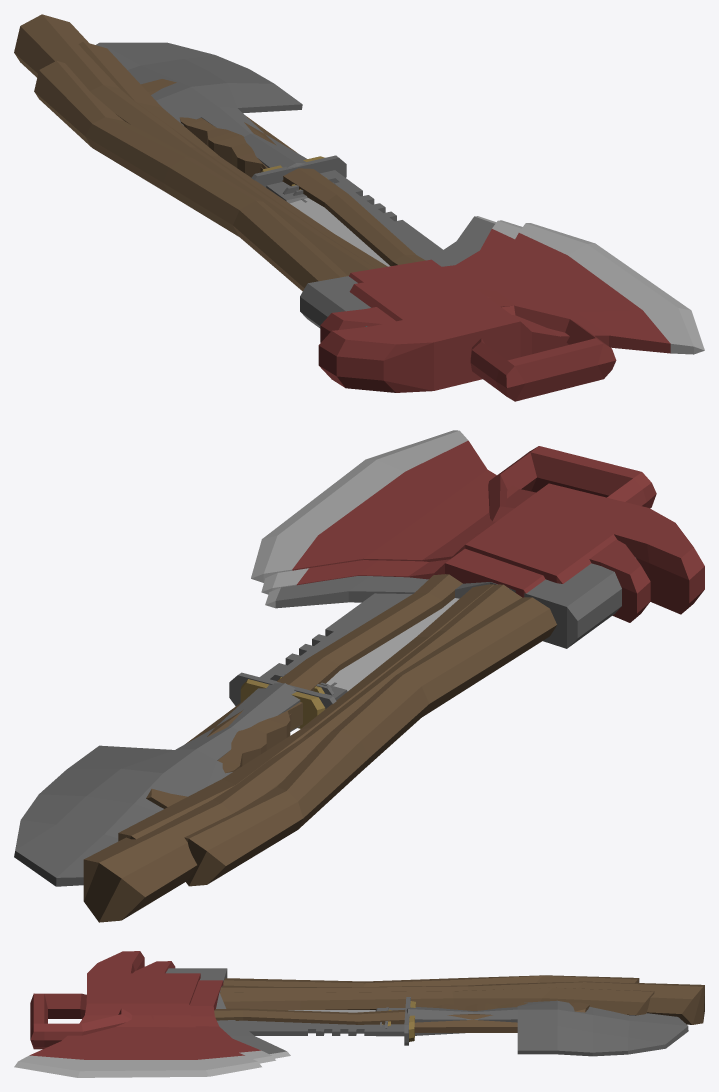
File: melee.glb
The picture shows the model from 3 angles, top to bottom: view 1: azimuth 30°, elevation 25°; view 2: azimuth 150°, elevation 25°; view 3: azimuth 270°, elevation 25°; orthographic projection. The views are drawn at different scales.
Visible parts, largest first — view 1: Axe (×2), Shovel, Axe_Small, Knife; view 2: Axe (×2), Axe_Small, Shovel, Knife; view 3: Axe (×2), Shovel, Knife, Axe_Small.
Boxes of the visible parts, left/top/right/bottom form: Axe (×2): left=14, top=14, right=704, bottom=392; Shovel: left=96, top=42, right=616, bottom=401; Axe_Small: left=34, top=61, right=496, bottom=328; Knife: left=141, top=79, right=442, bottom=266; Axe (×2): left=83, top=430, right=704, bottom=922; Axe_Small: left=184, top=557, right=635, bottom=886; Shovel: left=14, top=446, right=656, bottom=886; Knife: left=146, top=593, right=459, bottom=808; Axe (×2): left=14, top=951, right=704, bottom=1077; Shovel: left=30, top=993, right=688, bottom=1056; Knife: left=236, top=997, right=589, bottom=1045; Axe_Small: left=166, top=968, right=639, bottom=1058.
Size of the model in its own units: 0.407 by 0.0614 by 1.05.
